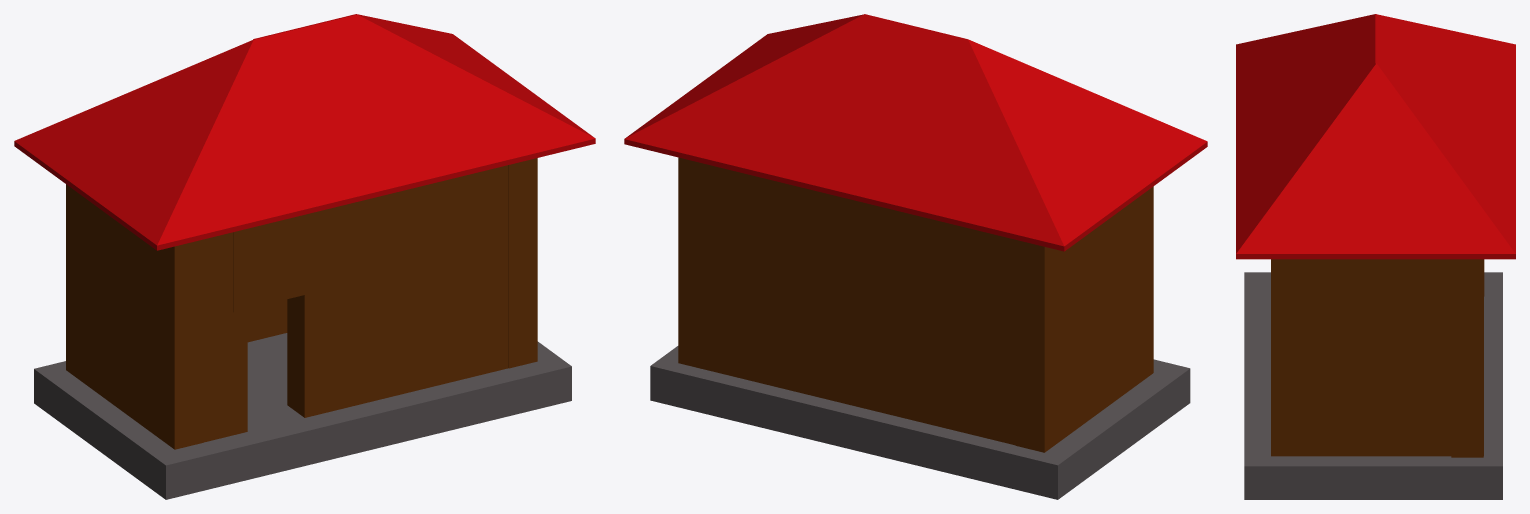
Rendered from House.fbx.
3 renders of one model, left to right at view 1: azimuth 30°, elevation 25°; view 2: azimuth 150°, elevation 25°; view 3: azimuth 270°, elevation 25°, orthographic. The views are drawn at different scales.
Visible parts, largest first — view 1: Куб.003, Cube.001, Куб; view 2: Куб.003, Cube.001, Куб; view 3: Cube.001, Куб.003, Куб.
Boxes of the visible parts, bbox=[...] form: Куб.003: bbox=[66, 158, 537, 449]; Cube.001: bbox=[14, 14, 595, 250]; Куб: bbox=[34, 333, 571, 499]; Куб.003: bbox=[678, 157, 1153, 452]; Cube.001: bbox=[624, 14, 1207, 251]; Куб: bbox=[650, 346, 1190, 499]; Cube.001: bbox=[1236, 14, 1515, 259]; Куб.003: bbox=[1271, 259, 1484, 457]; Куб: bbox=[1244, 272, 1502, 499].
Size of the model in its own units: 609 by 496 by 344.
